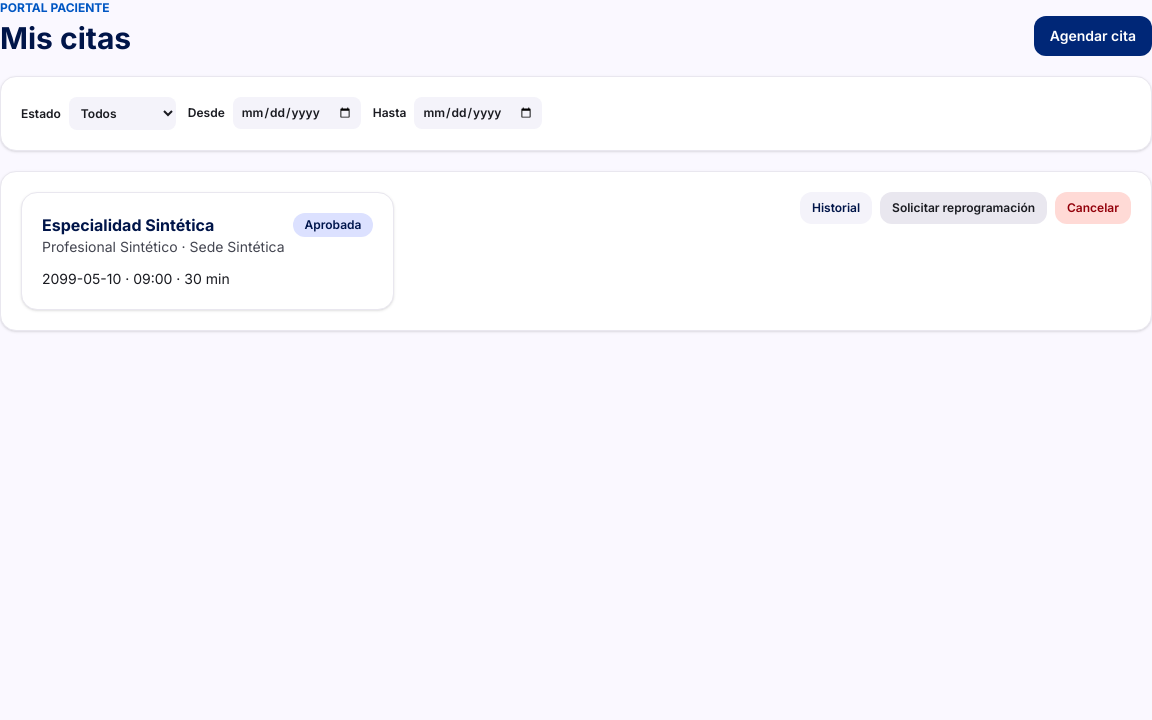
Scenario: MyAppointmentsScreen › queries availability with the appointment ids and posts the reschedule, then reloads
The width and height of the screenshot is (1152, 720).
Step 1. Click the button "Solicitar reprogramación" → (964, 208), box x1=880 y1=192 x2=1047 y2=224
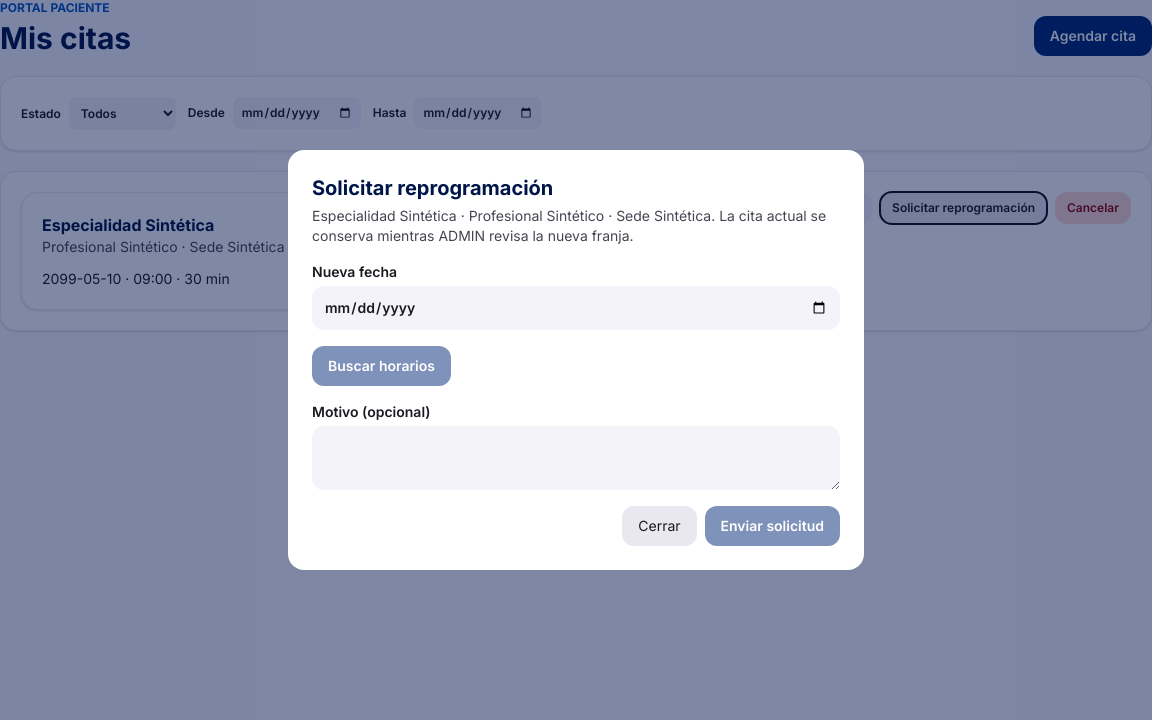
Step 2. Type "2099-06-01" into the date field labelled "Nueva fecha" → (576, 308), box x1=312 y1=286 x2=840 y2=330
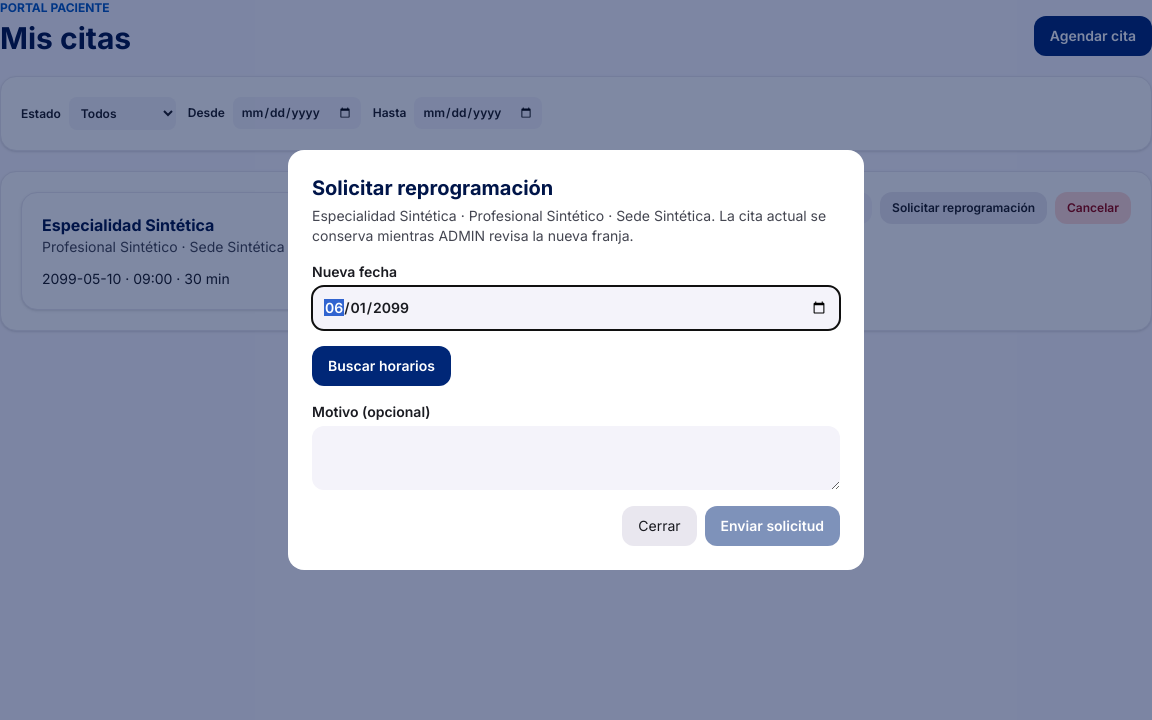
Step 3. Click the button "Buscar horarios" → (382, 366), box x1=312 y1=346 x2=451 y2=386
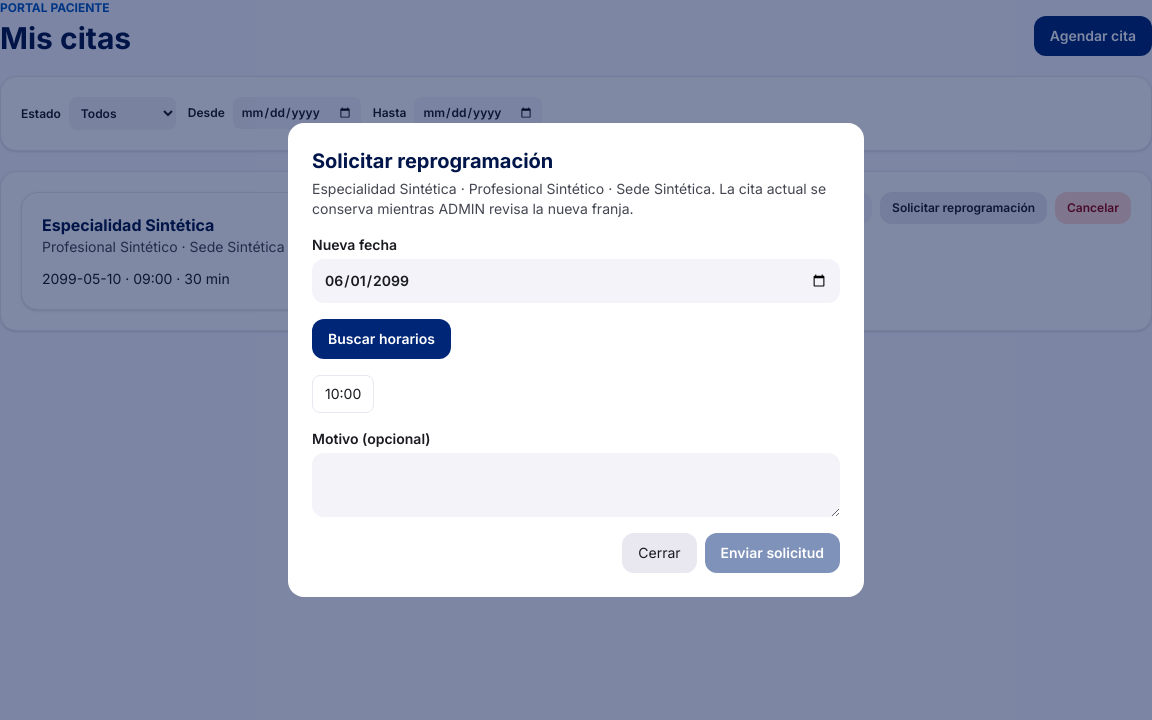
Step 4. Click the button "10:00" → (343, 394), box x1=312 y1=375 x2=374 y2=413
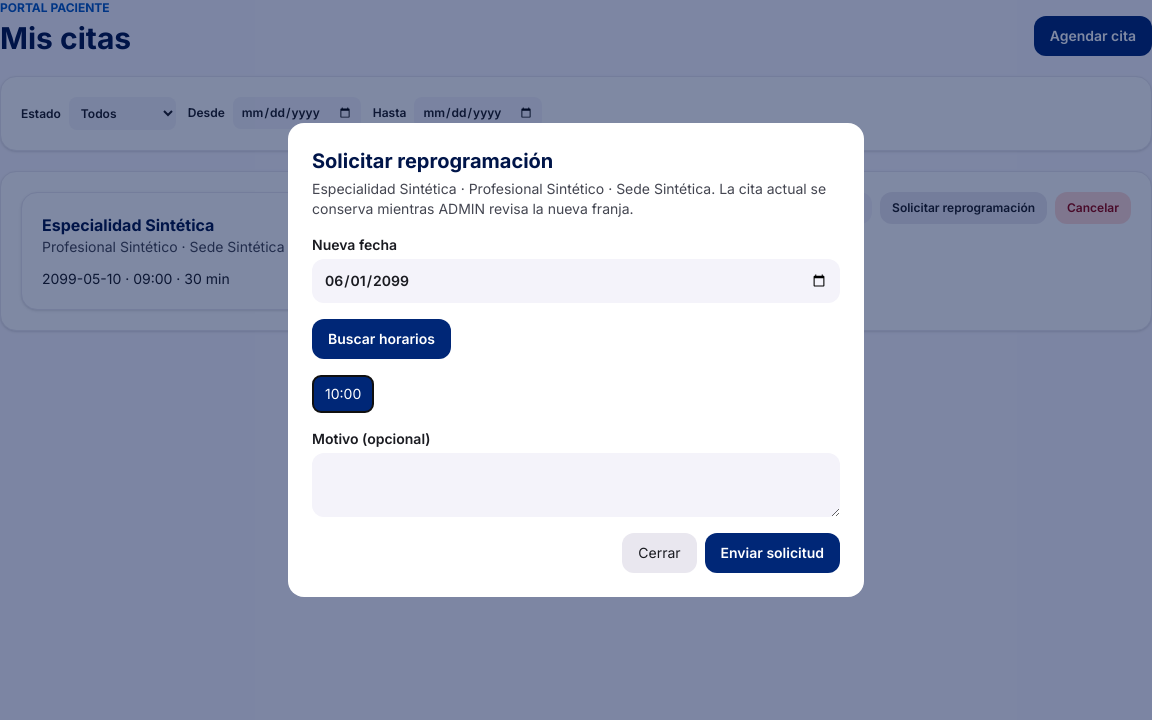
Step 5. Type "Viaje sintético" into the text box labelled "Motivo (opcional)" → (576, 485), box x1=312 y1=453 x2=840 y2=517
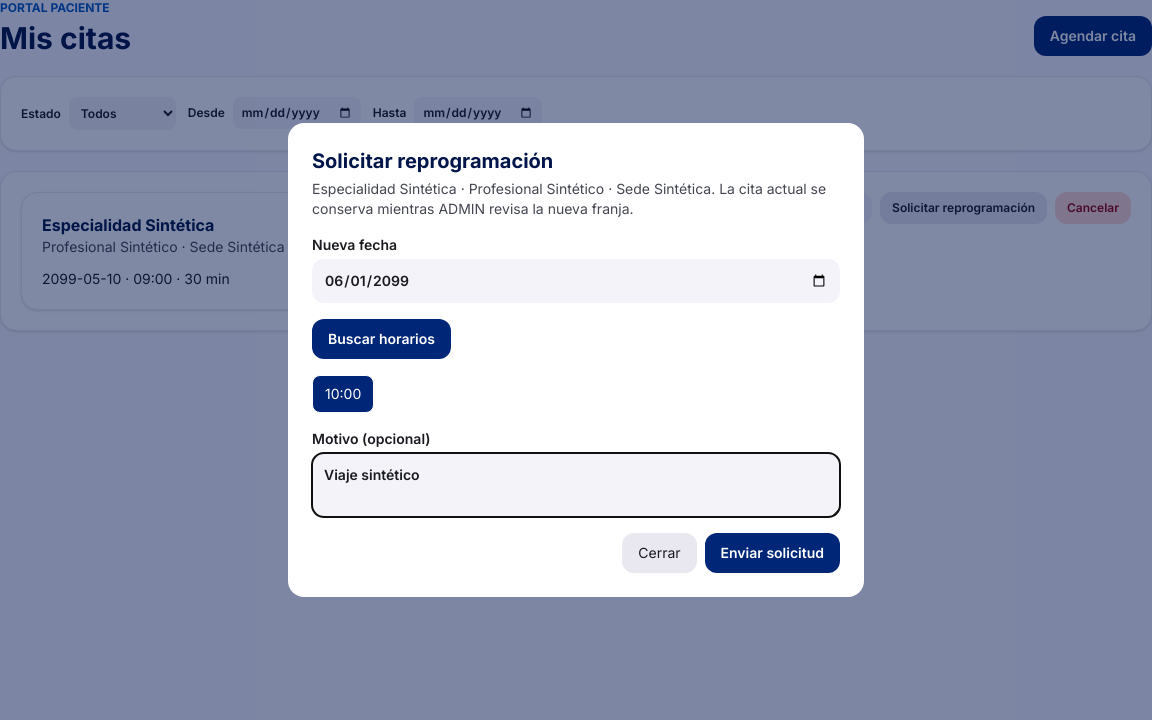
Step 6. Click the button "Enviar solicitud" → (772, 553), box x1=705 y1=533 x2=840 y2=573
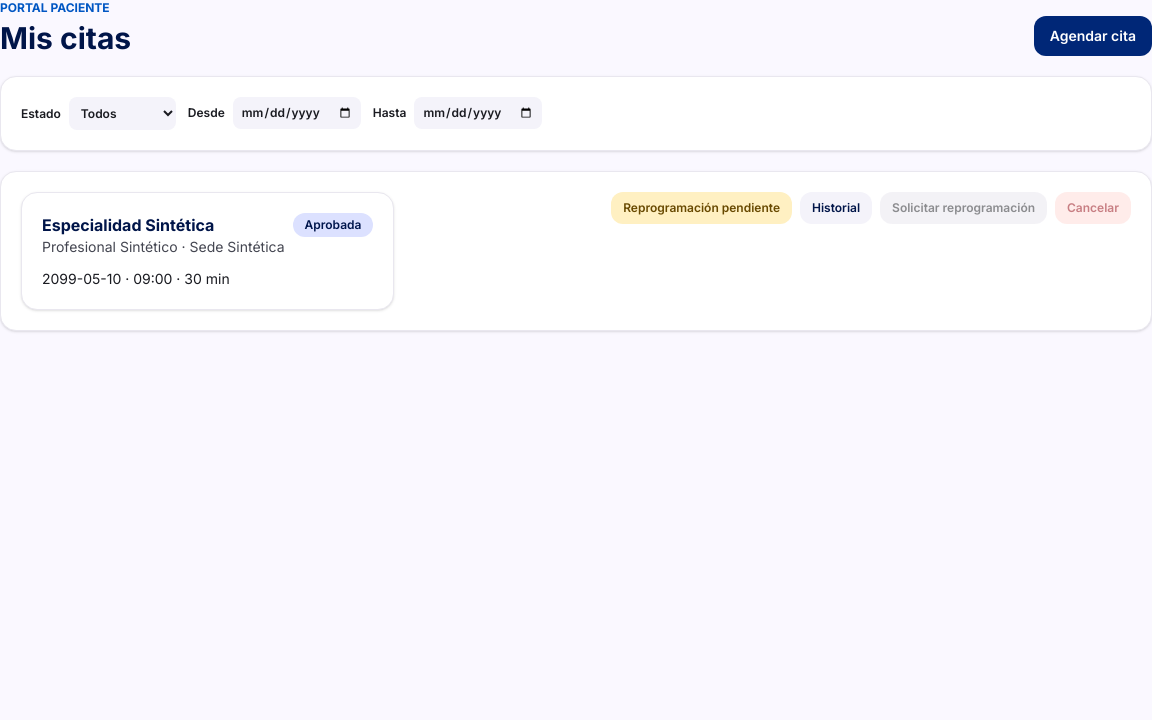
Expected: the dialog is gone
Expected: the text "Reprogramación pendiente" is shown, x1=611 y1=192 x2=792 y2=224
